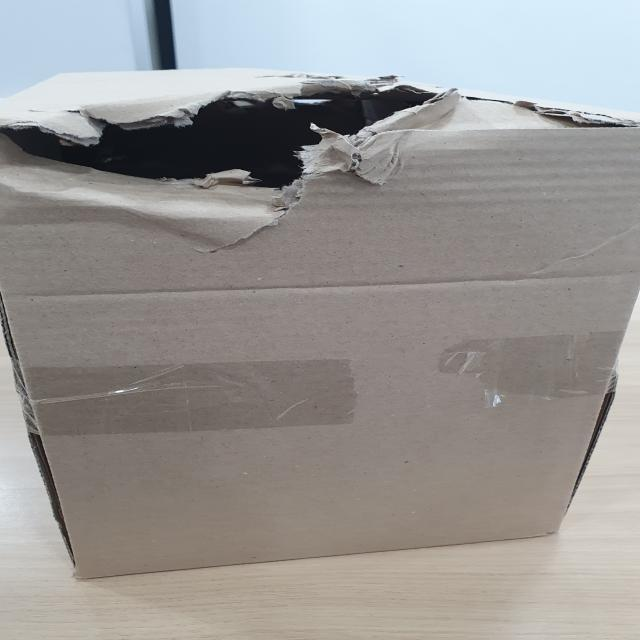hole: (0, 92, 640, 210)
